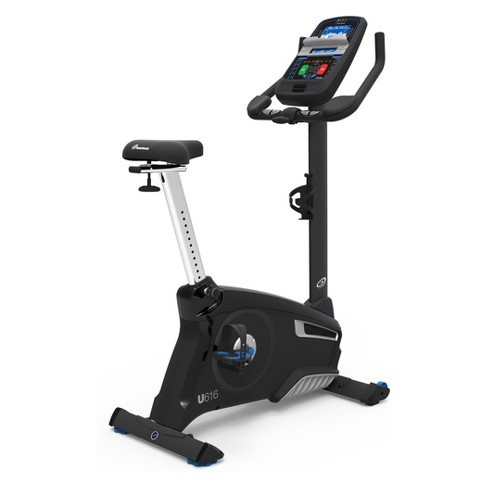gym_bike: (92, 15, 401, 472)
